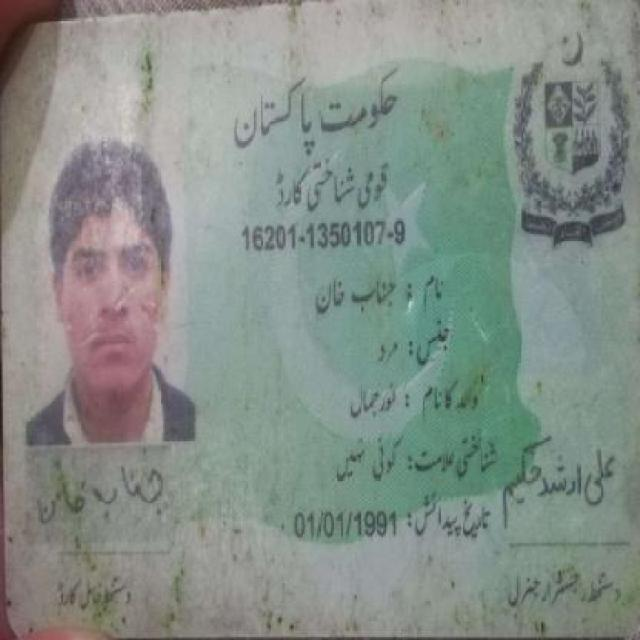Front: (6, 17, 634, 629)
